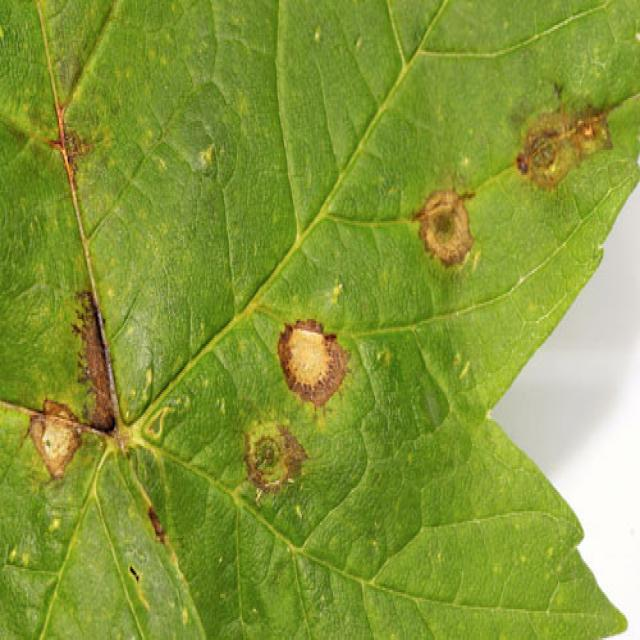Cotton Ball Rot: (274, 313, 349, 415), (411, 182, 477, 273), (240, 415, 309, 502)
Target Spot: (1, 2, 636, 636)
